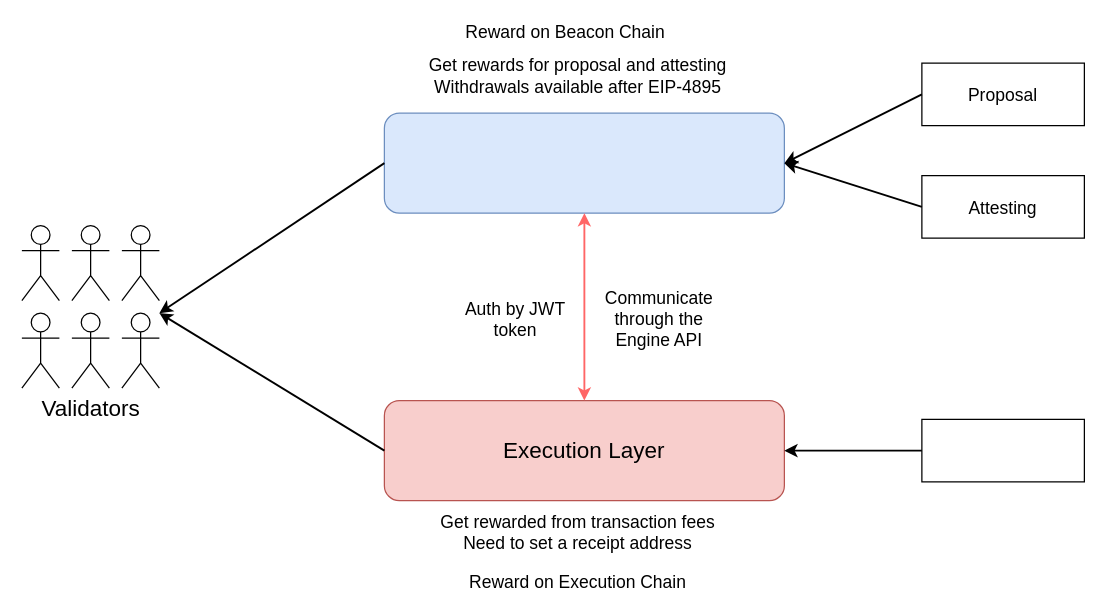
Some shapes in this 1106 by 614 pixel diagram are drawn without their labels. The box of each missing label's shape, as (x1, y1, x2, y2) in pixels:
Consensus Layer: (383, 112, 784, 213)
Transaction fee: (921, 418, 1084, 482)
